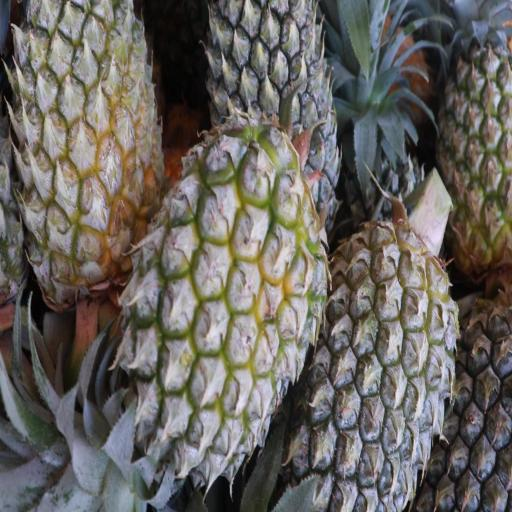------------------------------: (130, 136, 314, 472), (19, 0, 161, 316), (438, 28, 510, 265)
